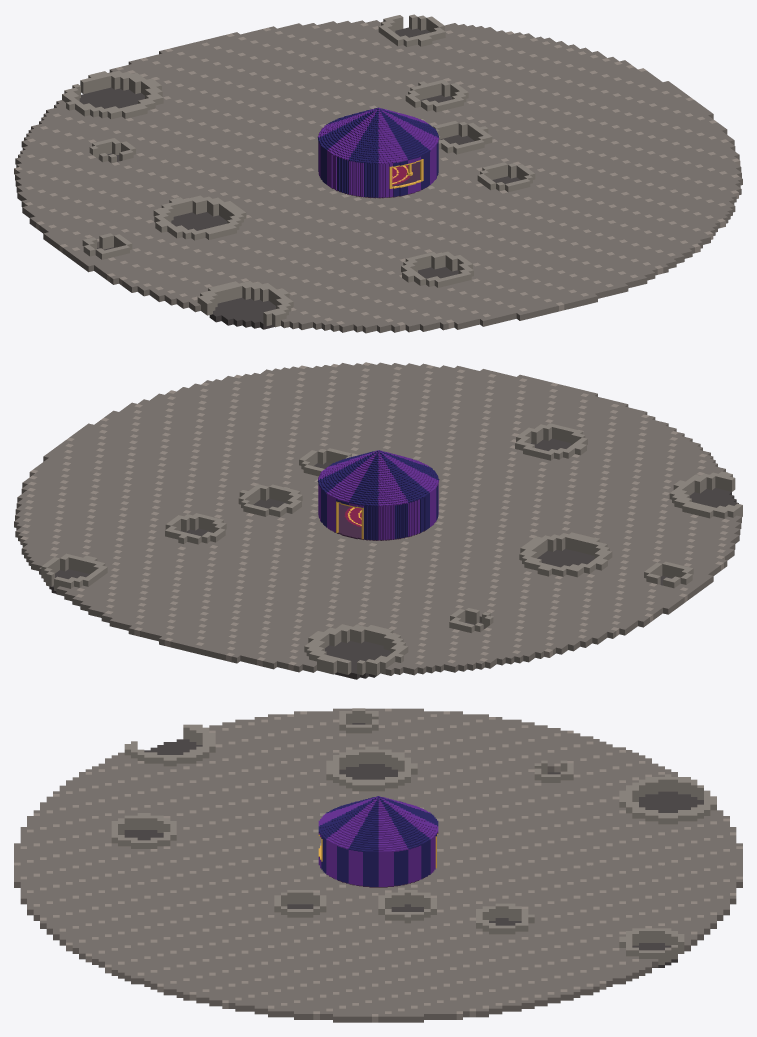
The model's file is carpa_tarot.obj.
3 renders of one model, top to bottom at view 1: azimuth 30°, elevation 25°; view 2: azimuth 150°, elevation 25°; view 3: azimuth 270°, elevation 25°, orthographic.
Visible parts, largest first — view 1: suelo_roca_mercurio, suelo_roca_clara, suelo_roca_borde, suelo_roca_oscura, techo_tela_azul, techo_tela_morada, pared_tela_morada, pared_tela_azul; view 2: suelo_roca_mercurio, suelo_roca_clara, suelo_roca_borde, suelo_roca_oscura, techo_tela_morada, techo_tela_azul, pared_tela_azul, pared_tela_morada, piso_piso_carpa; view 3: suelo_roca_mercurio, suelo_roca_clara, suelo_roca_borde, suelo_roca_oscura, techo_tela_azul, techo_tela_morada, pared_tela_morada, pared_tela_azul.
Part boxes in pixels (bbox=[...]): suelo_roca_mercurio: bbox=[15, 20, 742, 333]; suelo_roca_clara: bbox=[14, 22, 740, 331]; suelo_roca_borde: bbox=[62, 14, 535, 327]; suelo_roca_oscura: bbox=[79, 27, 520, 329]; techo_tela_azul: bbox=[318, 107, 438, 164]; techo_tela_morada: bbox=[317, 107, 439, 164]; pared_tela_morada: bbox=[318, 142, 436, 197]; pared_tela_azul: bbox=[318, 140, 438, 197]; suelo_roca_mercurio: bbox=[14, 362, 741, 675]; suelo_roca_clara: bbox=[20, 362, 729, 670]; suelo_roca_borde: bbox=[41, 423, 742, 675]; suelo_roca_oscura: bbox=[49, 438, 738, 679]; techo_tela_morada: bbox=[318, 450, 438, 506]; techo_tela_azul: bbox=[317, 450, 439, 506]; pared_tela_azul: bbox=[321, 484, 438, 540]; pared_tela_morada: bbox=[318, 483, 438, 540]; piso_piso_carpa: bbox=[328, 503, 425, 540]; suelo_roca_mercurio: bbox=[14, 708, 742, 1022]; suelo_roca_clara: bbox=[14, 708, 742, 1022]; suelo_roca_borde: bbox=[111, 708, 716, 964]; suelo_roca_oscura: bbox=[124, 723, 703, 967]; techo_tela_azul: bbox=[318, 796, 438, 852]; techo_tela_morada: bbox=[318, 796, 438, 852]; pared_tela_morada: bbox=[318, 833, 435, 886]; pared_tela_azul: bbox=[321, 833, 438, 886].
Size of the model in its own units: 56 by 6.6 by 56.
